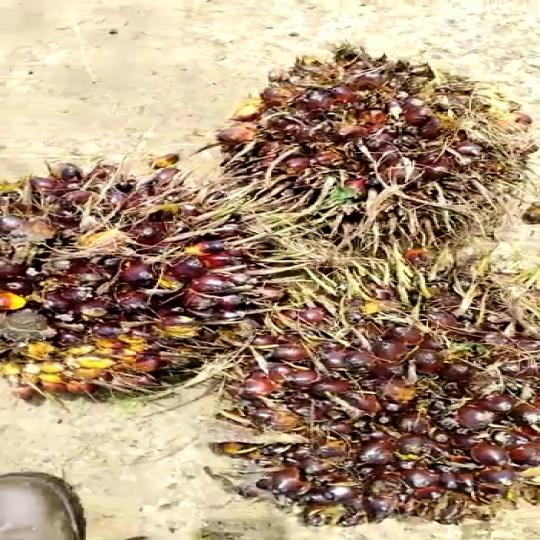masak: (201, 246, 540, 536), (0, 139, 298, 413), (206, 32, 540, 261)
